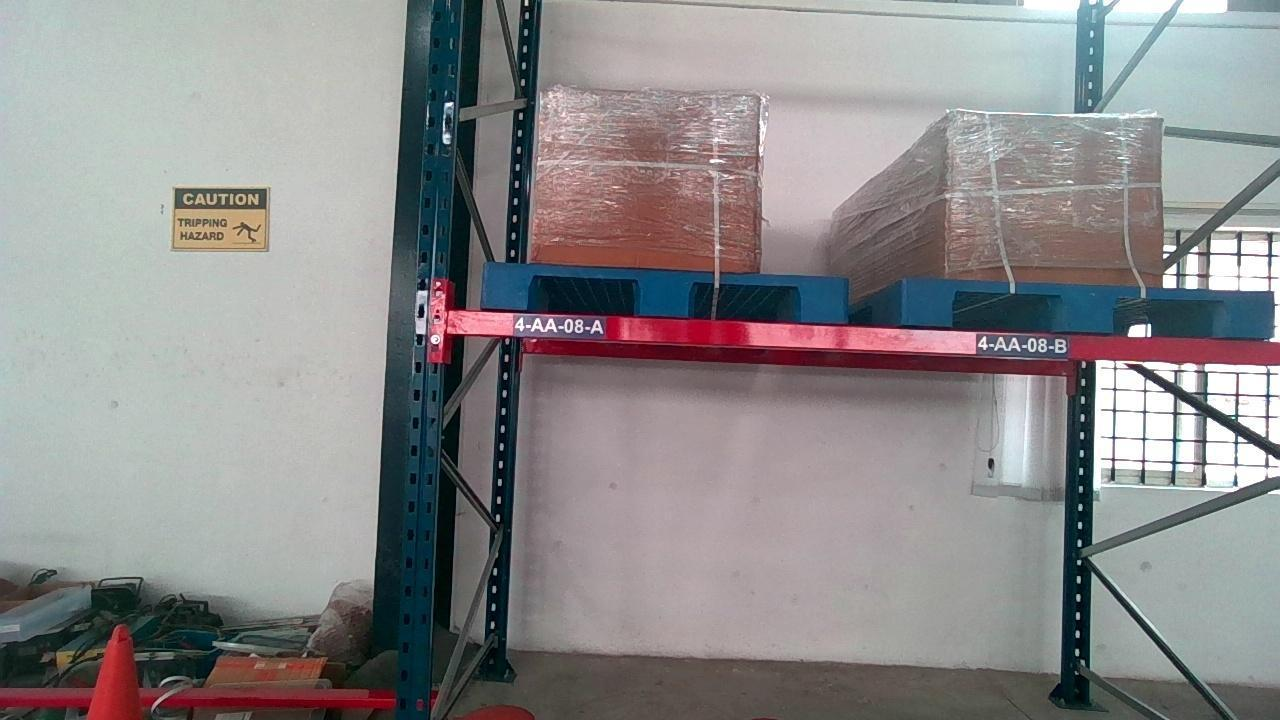h_rack: (450, 315, 1280, 365)
small_pallet: (902, 282, 1268, 333), (482, 267, 845, 316)
